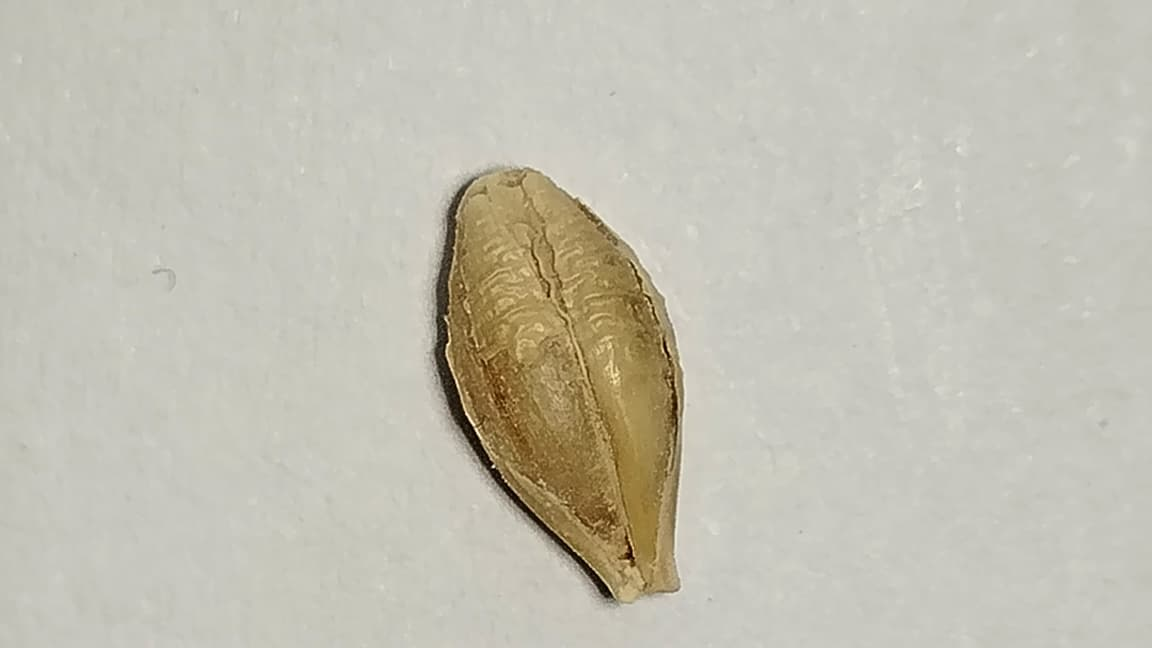healthy-70-60: (449, 166, 683, 598)
shriveledseed: (479, 243, 633, 329)
